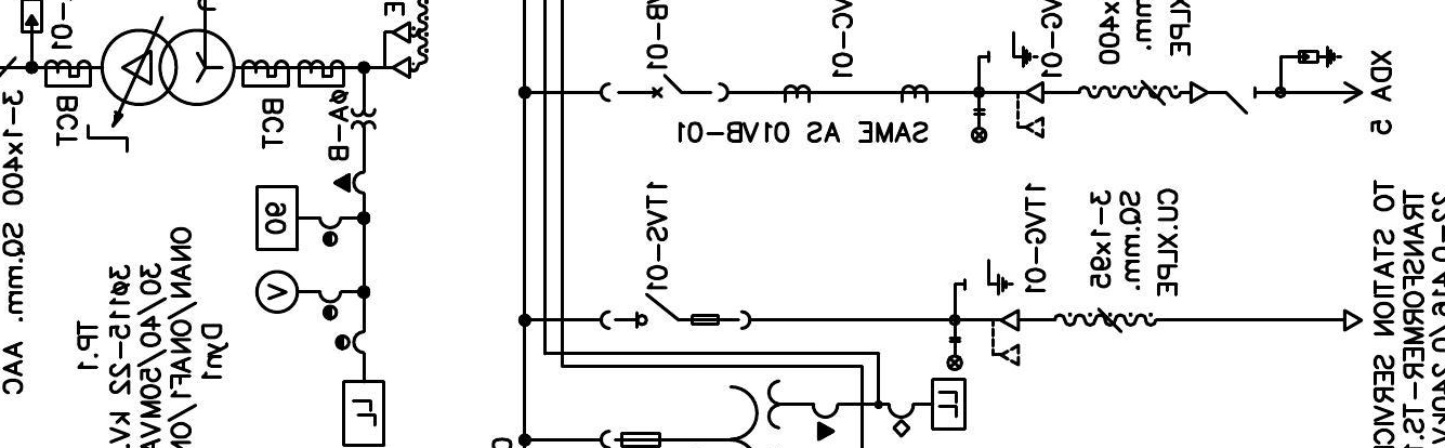11522_tx_dyn1: (100, 28, 237, 107)
22_breaker: (599, 72, 730, 103)
22_ds: (599, 292, 752, 331)
22_ds_la_out: (1225, 44, 1364, 115)
22_gs: (986, 29, 1040, 69), (963, 257, 1015, 297)
22_ll: (970, 108, 988, 144), (946, 336, 963, 372)
LL: (930, 377, 967, 431)
terminator_double: (382, 21, 412, 79)
terminator_single: (1188, 80, 1210, 105), (1342, 308, 1364, 332)
terminator_w_future: (991, 308, 1021, 369), (1015, 80, 1045, 140)
v_m: (254, 268, 300, 315)
